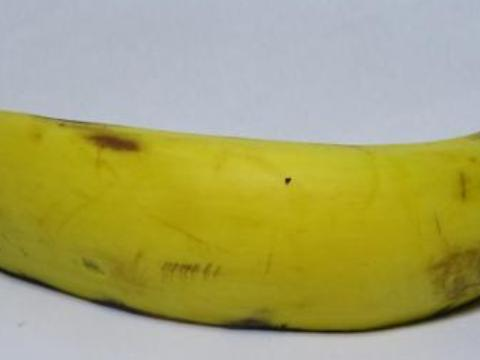freshripe: (0, 97, 479, 349)
